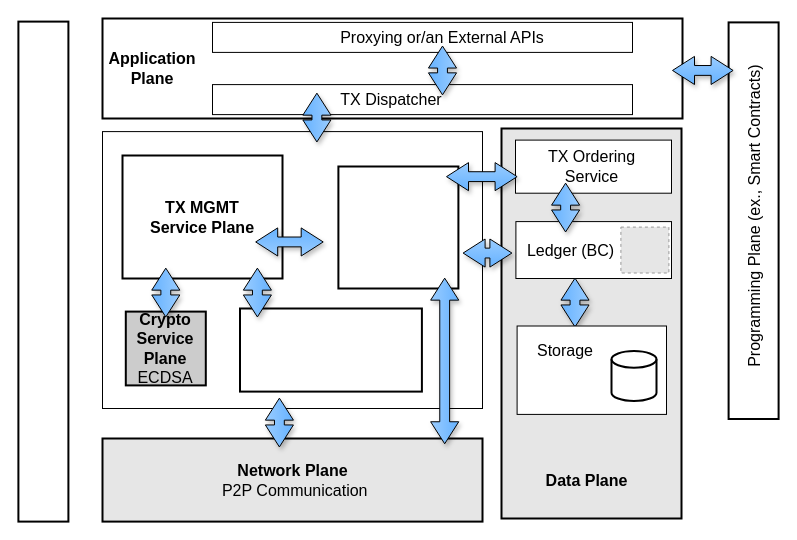
Image size: 797x540. Some labels were removed from this diagram. Grey dashed boxes stand in for pictures. Here are the shapes that lost their labels. From the top down, the centre of each, then its label:
(398,227): Hybrid Consensus Plane
(43,271): Deployment and Operation Management
(330,349): Execution Plane SC Exec. Engine, VM, Docker, compilers
